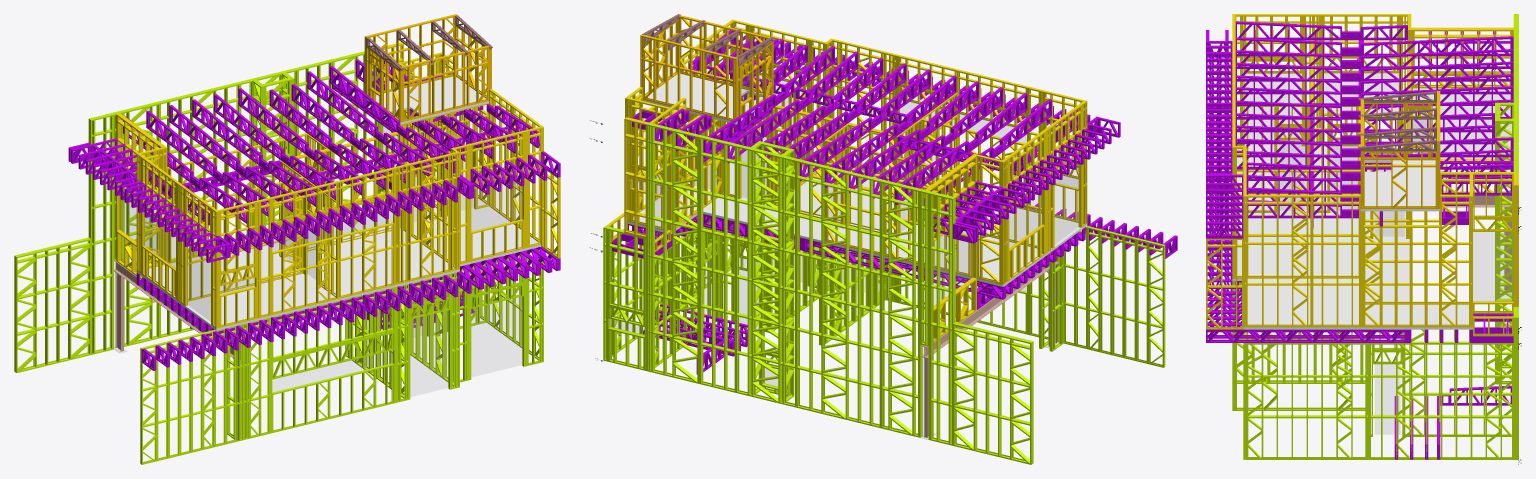
The model's file is instigue-r11.glb.
3 renders of one model, left to right at view 1: azimuth 30°, elevation 25°; view 2: azimuth 150°, elevation 25°; view 3: azimuth 270°, elevation 25°, orthographic. The views are drawn at different scales.
Size of the model in its own units: 14.61 by 9.43 by 8.46.
